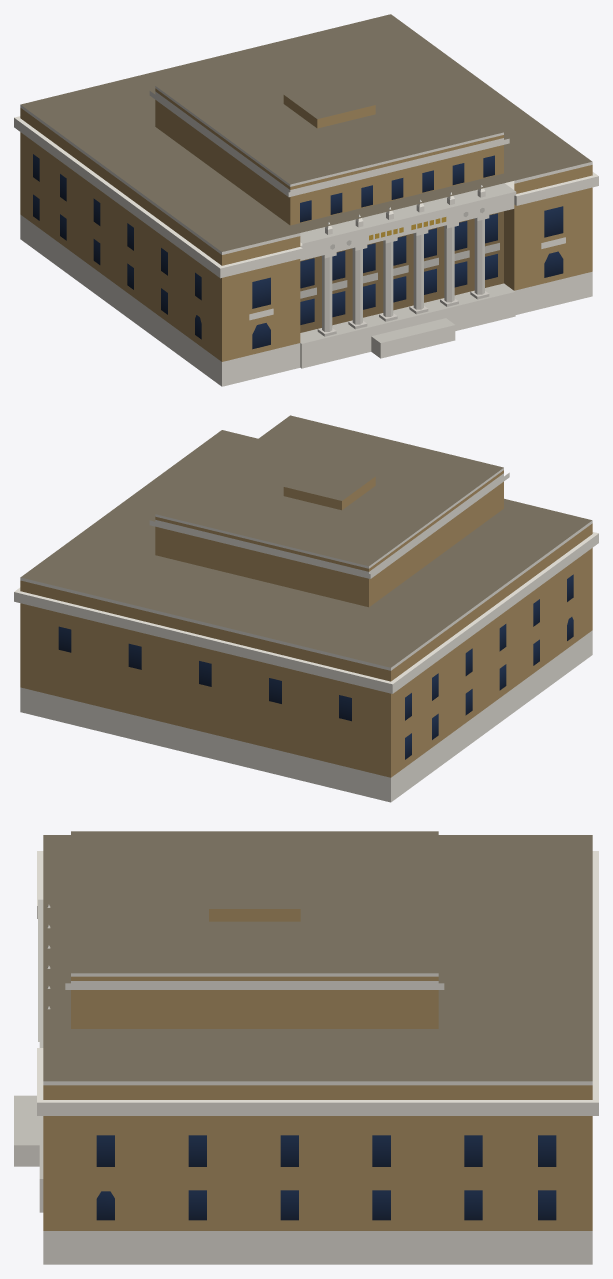
The model's file is buckstaff.glb.
3 views of the same model, one above another, from view 1: azimuth 30°, elevation 25°; view 2: azimuth 150°, elevation 25°; view 3: azimuth 270°, elevation 25° (orthographic). The views are drawn at different scales.
Visible parts, largest first — view 1: Buckstaff; view 2: Buckstaff; view 3: Buckstaff.
Part boxes in pixels (left/top/right/bottom): Buckstaff: left=14, top=14, right=598, bottom=386; Buckstaff: left=14, top=415, right=598, bottom=802; Buckstaff: left=14, top=831, right=598, bottom=1264.
Size of the model in its own units: 32.4 by 15.13 by 31.82.
